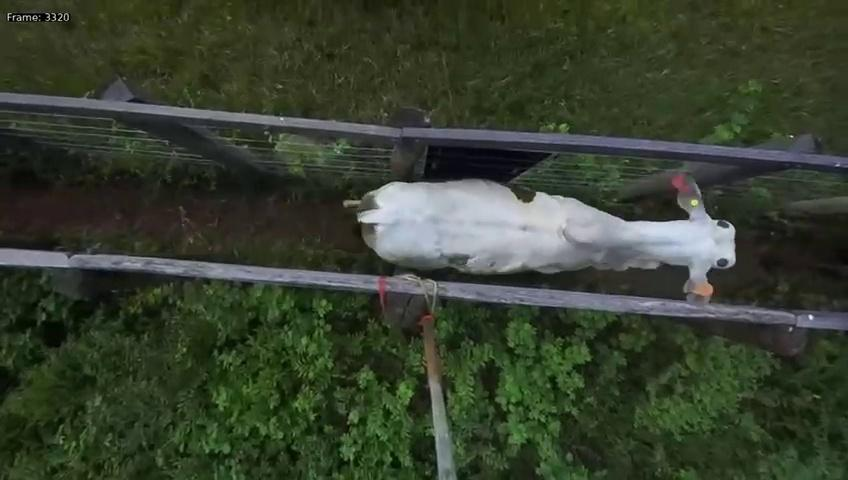cattle: (339, 171, 743, 311)
